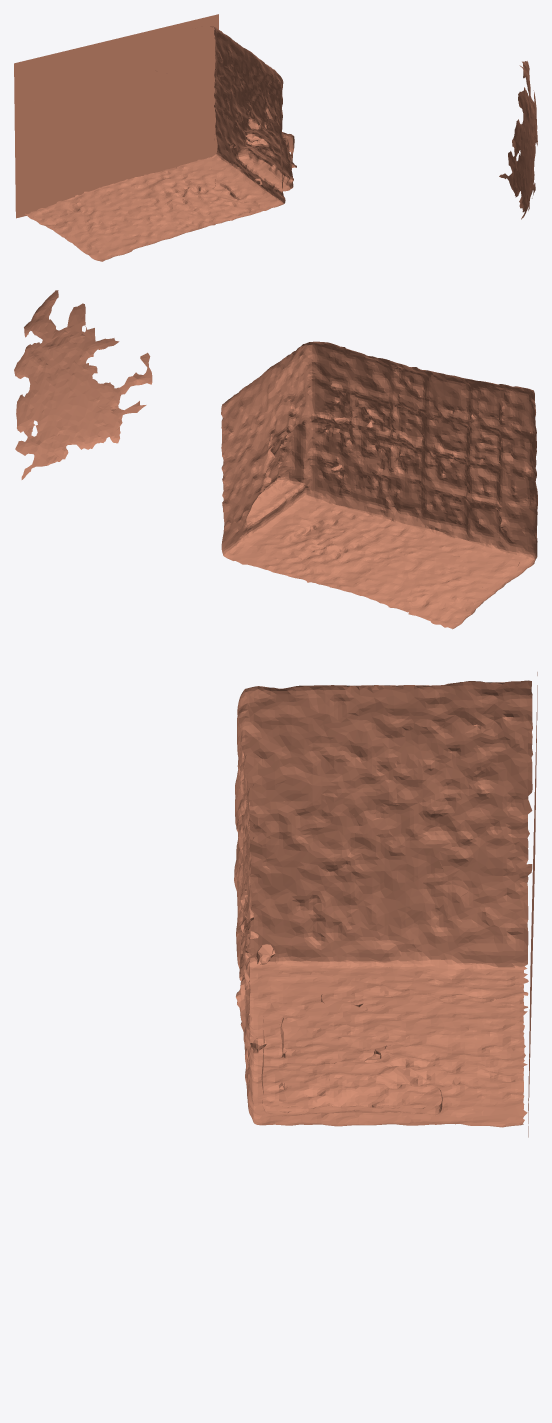
Rendered from collider.glb.
The picture shows the model from 3 angles, top to bottom: view 1: azimuth 30°, elevation 25°; view 2: azimuth 150°, elevation 25°; view 3: azimuth 270°, elevation 25°; orthographic projection. The views are drawn at different scales.
Parts seen in each view (by area): view 1: gs-mesh; view 2: gs-mesh; view 3: gs-mesh.
Boxes of the visible parts, x1,y1,x2,y2 form: gs-mesh: [14, 14, 537, 261]; gs-mesh: [14, 290, 537, 629]; gs-mesh: [234, 672, 537, 1137].
Bounding box in the file's own units: 9.74 × 3.66 × 5.15.
